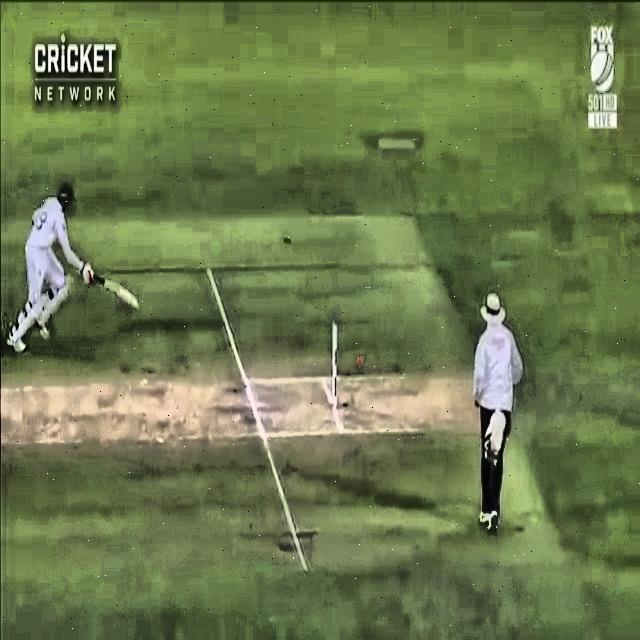Ball: (352, 352, 374, 376)
Bat: (71, 258, 141, 314)
Pitch_Line: (205, 267, 307, 573)
Undis_Wicket: (323, 307, 345, 412)
